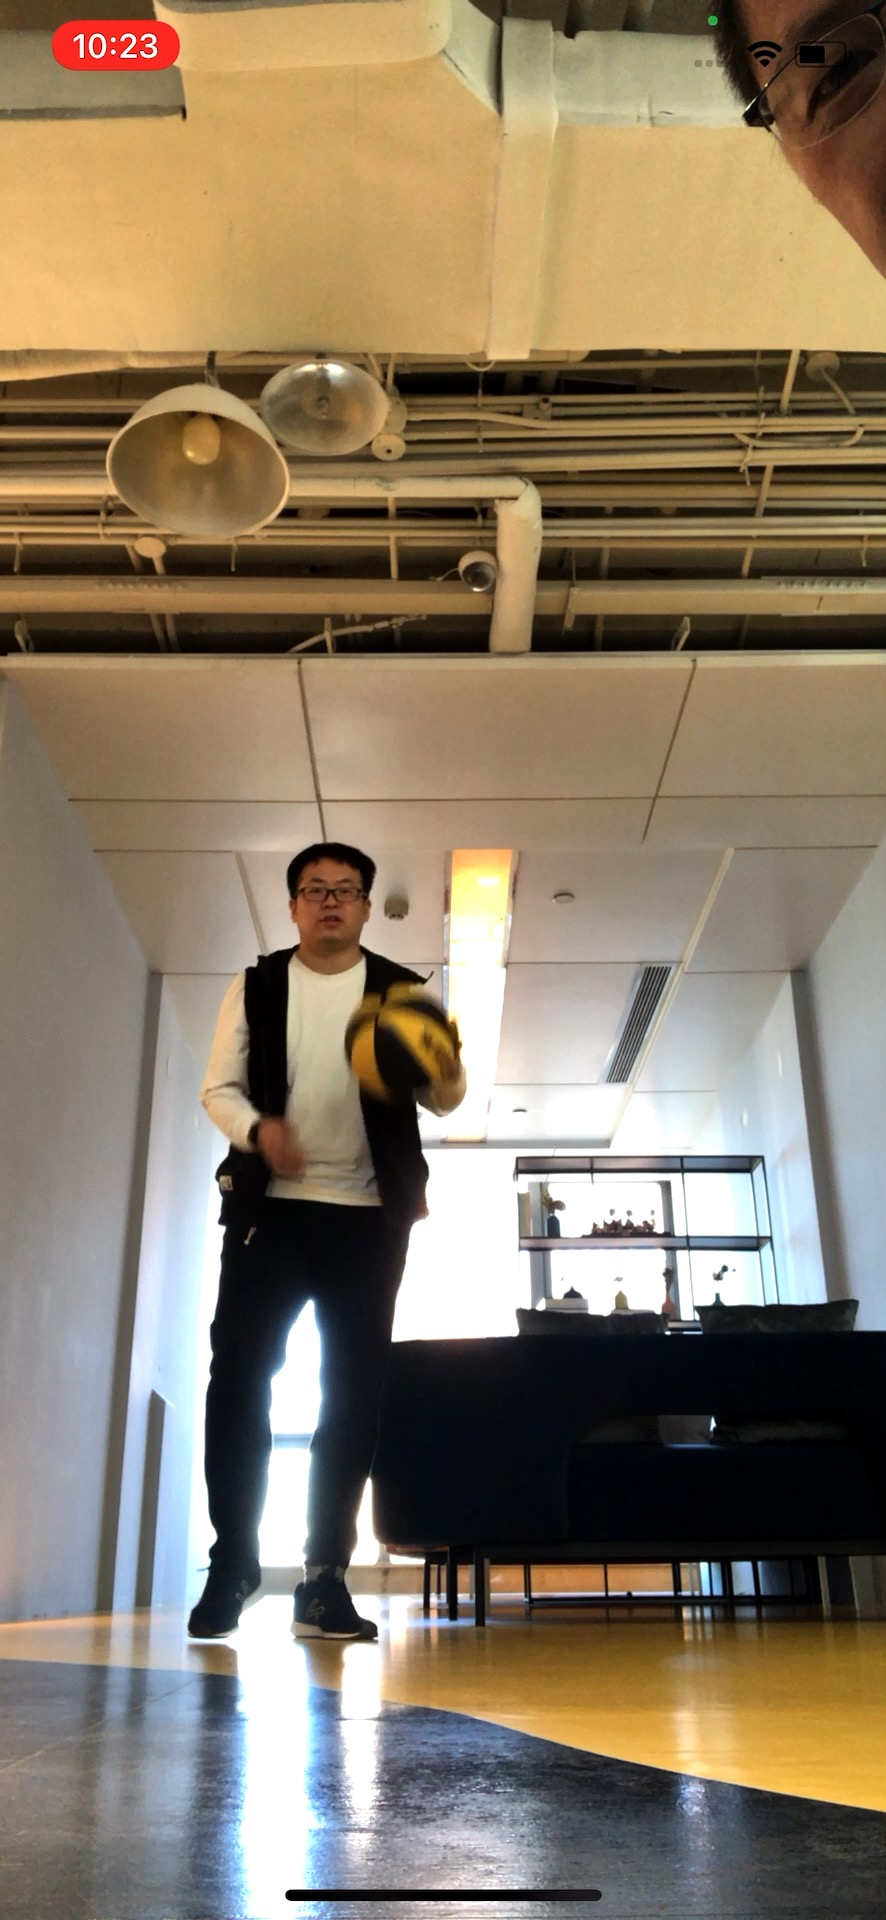ball: (348, 989, 461, 1108)
